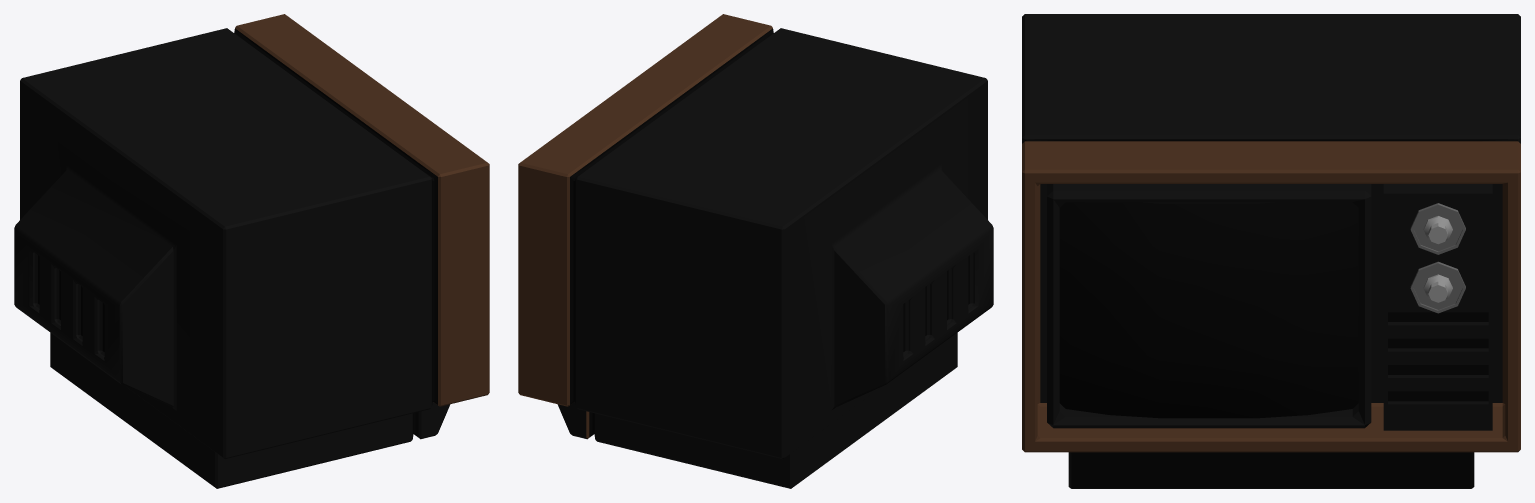
The model's file is TV_CRT_05.glb.
3 renders of one model, left to right at view 1: azimuth 30°, elevation 25°; view 2: azimuth 150°, elevation 25°; view 3: azimuth 270°, elevation 25°, orthographic. The views are drawn at different scales.
Parts seen in each view (by area): view 1: Mesh_TV_CRT_05; view 2: Mesh_TV_CRT_05; view 3: Mesh_TV_CRT_05.
Boxes of the visible parts, <box> form: Mesh_TV_CRT_05: <box>14,14,489,488</box>; Mesh_TV_CRT_05: <box>518,14,993,488</box>; Mesh_TV_CRT_05: <box>1022,14,1520,488</box>.
Bounding box in the file's own units: 0.7586 × 0.6 × 0.8.
Materials: 1 (1 with a texture image).
